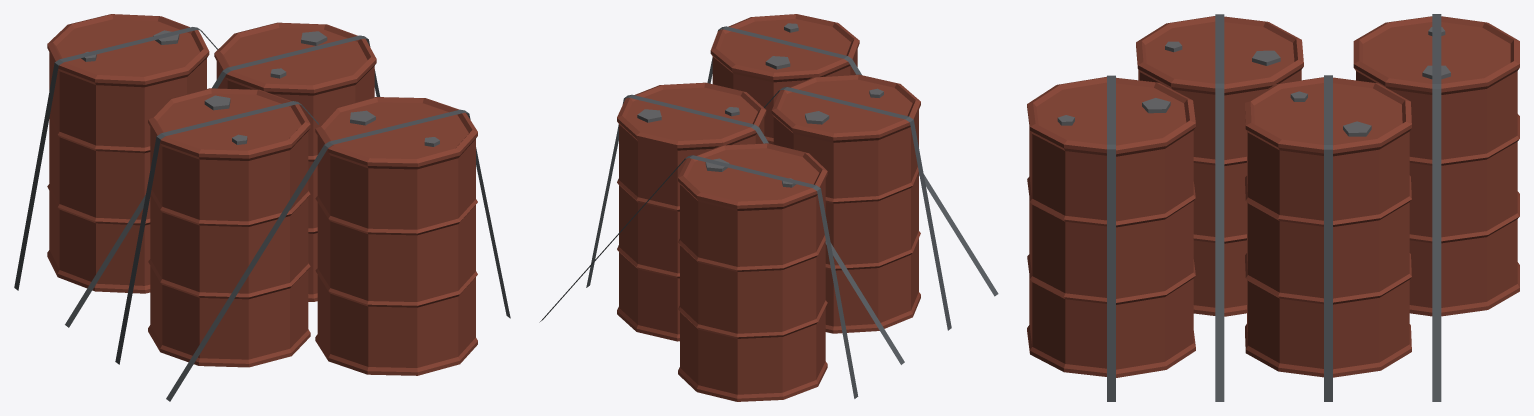
The model's file is drum-stack.glb.
3 renders of one model, left to right at view 1: azimuth 30°, elevation 25°; view 2: azimuth 150°, elevation 25°; view 3: azimuth 270°, elevation 25°, orthographic. The views are drawn at different scales.
Visible parts, largest first — view 1: Drum3, Drum2, Drum0, Drum1, DrumStack_Strap; view 2: Drum0, Drum2, Drum1, Drum3, DrumStack_Strap; view 3: Drum3, Drum1, Drum0, Drum2, DrumStack_Strap.
Boxes of the visible parts, left/top/right/bottom form: Drum3: left=315, top=97, right=477, bottom=375; Drum2: left=148, top=88, right=310, bottom=367; Drum0: left=47, top=14, right=209, bottom=293; Drum1: left=214, top=22, right=376, bottom=301; DrumStack_Strap: left=14, top=27, right=510, bottom=401; Drum0: left=678, top=143, right=827, bottom=401; Drum2: left=771, top=74, right=920, bottom=333; Drum1: left=617, top=82, right=766, bottom=341; Drum3: left=710, top=14, right=859, bottom=144; DrumStack_Strap: left=539, top=26, right=998, bottom=398; Drum3: left=1027, top=76, right=1195, bottom=377; Drum1: left=1245, top=77, right=1411, bottom=377; Drum0: left=1353, top=16, right=1519, bottom=316; Drum2: left=1136, top=16, right=1303, bottom=316; DrumStack_Strap: left=1107, top=14, right=1441, bottom=401.
Size of the model in its own units: 1.4 by 0.854 by 1.64.
